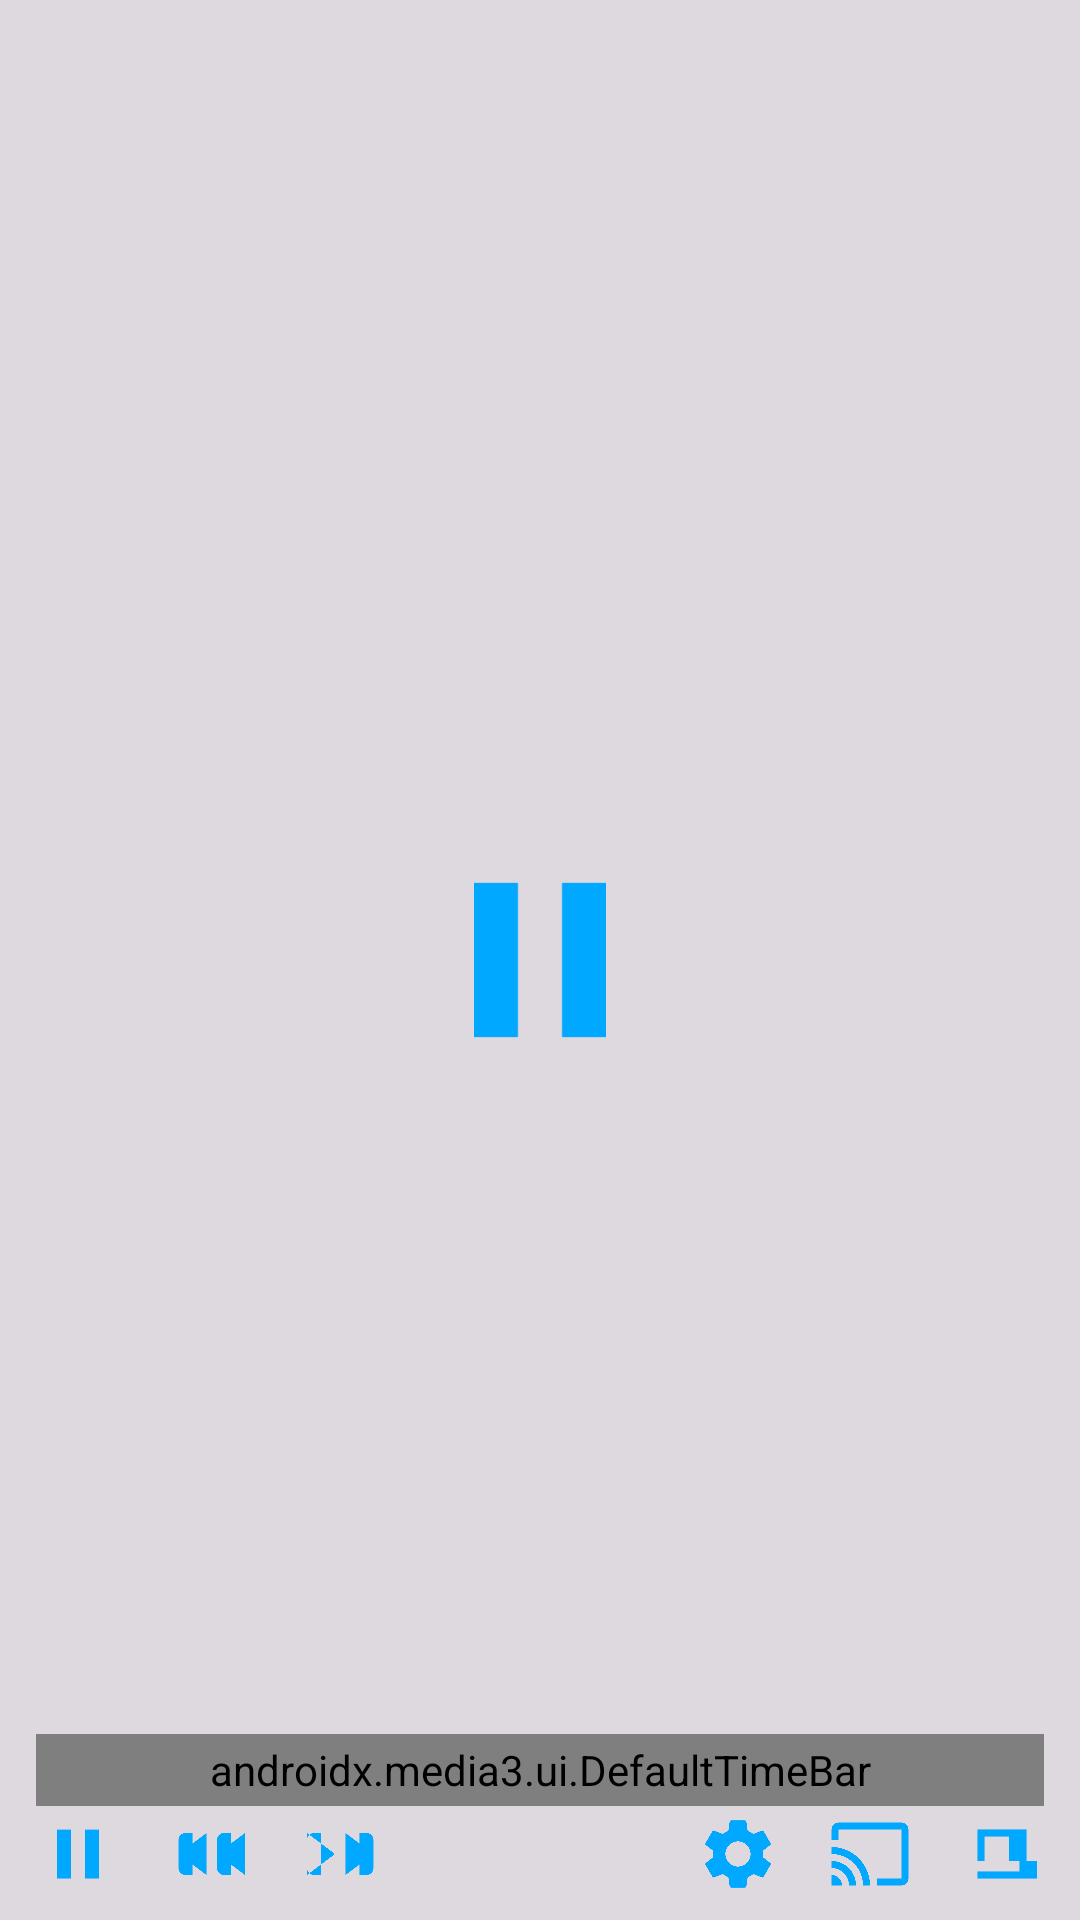

Icon click points for this 1080px×1920px phone screenshot, format (x=x, y=y):
Adelantar 10 segundos: (x=340, y=1854)
Configuracion: (x=738, y=1854)
Retroceder 10 segundos: (x=211, y=1854)
Transmitir o Pantalla Inalambrica: (x=870, y=1854)
